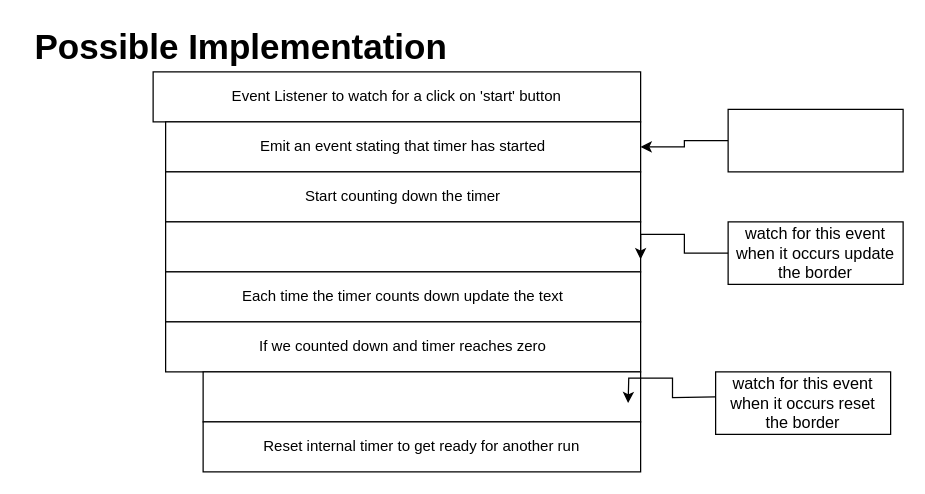
Image size: 925x494. Some labels were removed from this diagram. Each missing label, with the box of its shape:
Emit an even that timer has ticked: (164, 221, 641, 272)
Emit an event that timer is done: (202, 371, 641, 422)
watch for this event when it occurs draw the border: (727, 108, 903, 172)
